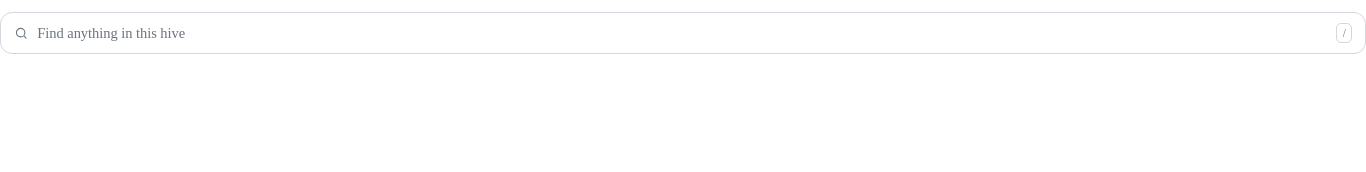
Test case: HiveOmni (find only) › with the assistant off: no mention of it, no Ask row, nothing opens
Later steps or results of the test are not shown.
Focus the dropdown at (682, 33), box x1=37 y1=13 x2=1327 y2=53
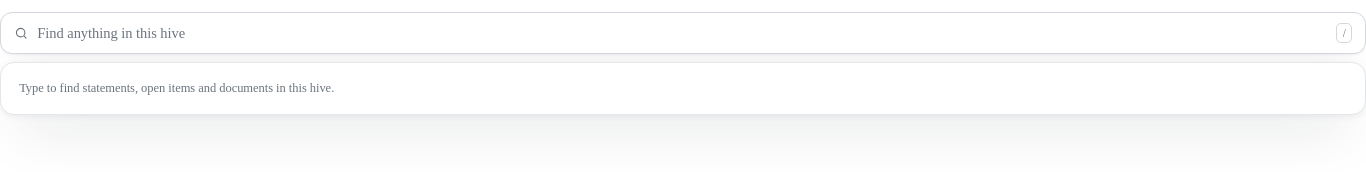
Expected: the text with test id "omni-empty" reads "Type to find statements, open items and documents in this hive.", x1=19 y1=81 x2=334 y2=95
